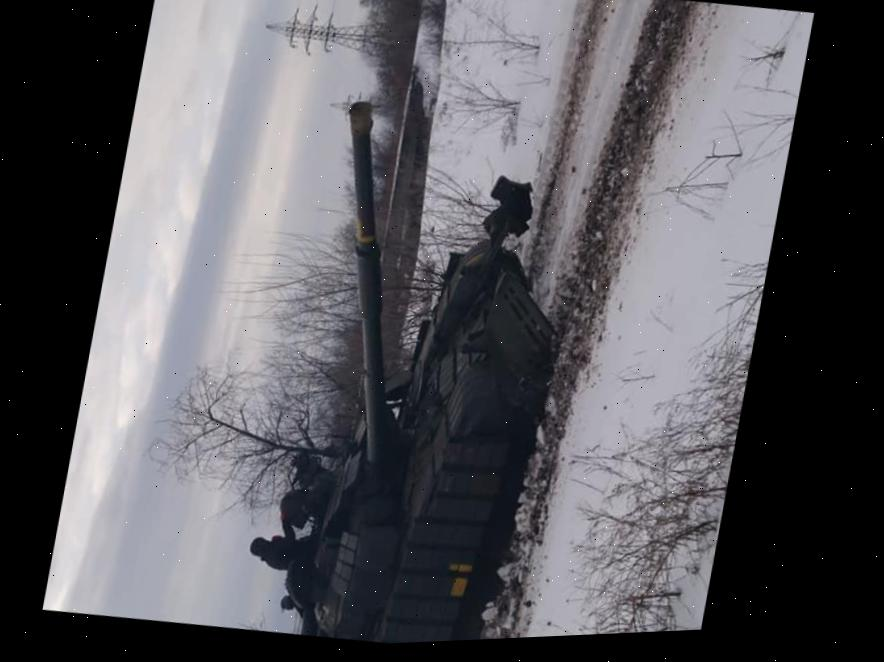tank: (250, 87, 599, 650)
